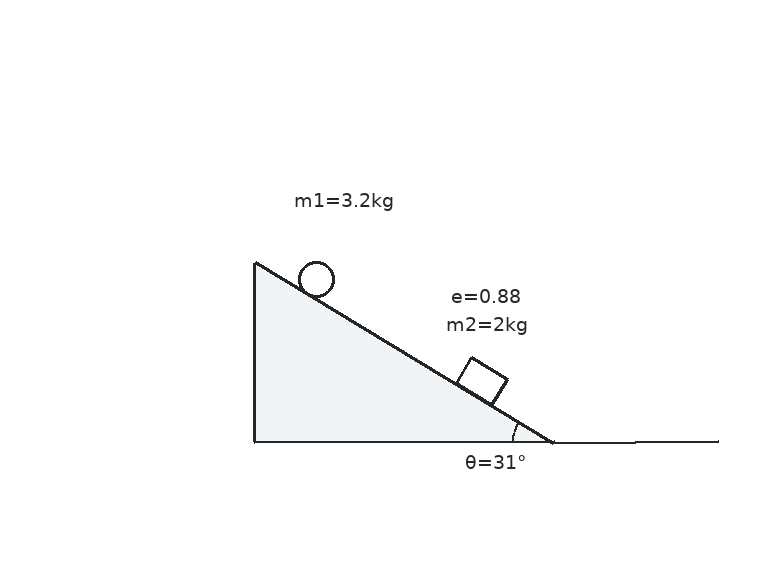ball: (296, 259, 336, 299)
block: (453, 355, 509, 407)
ramp: (253, 261, 555, 444)
